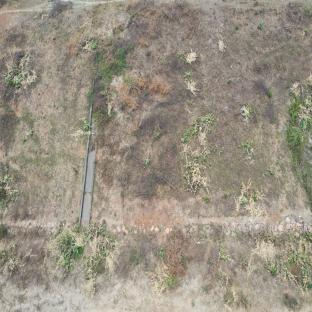rock_toe: (97, 213, 312, 239), (3, 218, 78, 240)
slope_drain: (77, 78, 104, 235)
vegetation: (42, 226, 116, 286)
